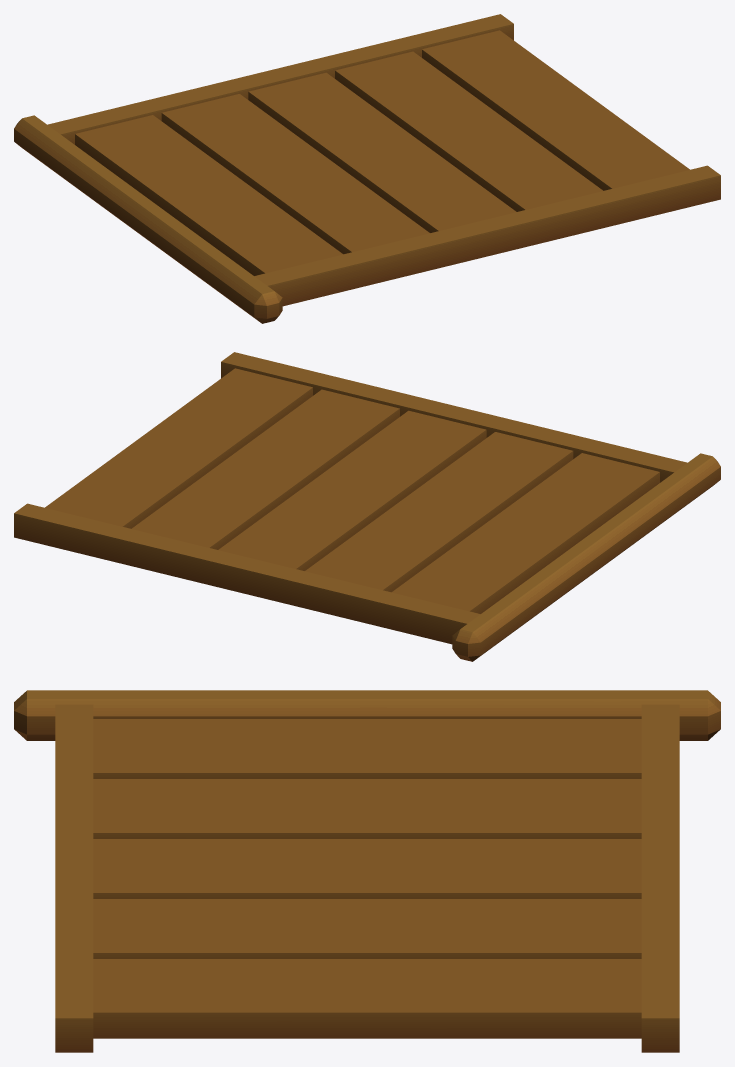
File: sm_forest_halfbridge.fbx
3 renders of one model, top to bottom at view 1: azimuth 30°, elevation 25°; view 2: azimuth 150°, elevation 25°; view 3: azimuth 270°, elevation 25°, orthographic. The views are drawn at different scales.
Visible parts, largest first — view 1: sm_forest_halfbridge; view 2: sm_forest_halfbridge; view 3: sm_forest_halfbridge.
Boxes of the visible parts, bbox=[...] form: sm_forest_halfbridge: bbox=[14, 14, 720, 323]; sm_forest_halfbridge: bbox=[14, 352, 720, 661]; sm_forest_halfbridge: bbox=[14, 690, 720, 1052].
Bounding box in the file's own units: 412 × 374 × 24.57.
